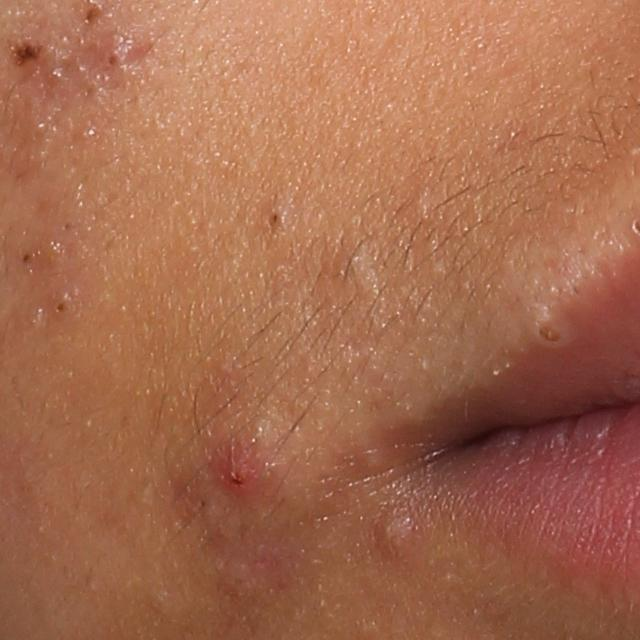atrophic_scar: (121, 39, 155, 71)
comedo: (95, 41, 128, 77), (49, 290, 74, 326), (533, 326, 561, 351), (264, 206, 286, 236), (13, 248, 36, 267)
nevus: (7, 35, 46, 66)
papule: (204, 432, 278, 502), (372, 513, 418, 561)
